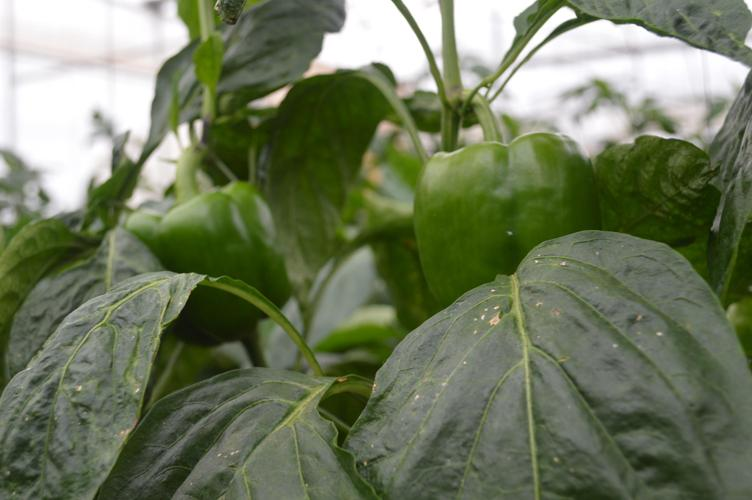BellPepper: (416, 130, 600, 303), (132, 185, 296, 347)
